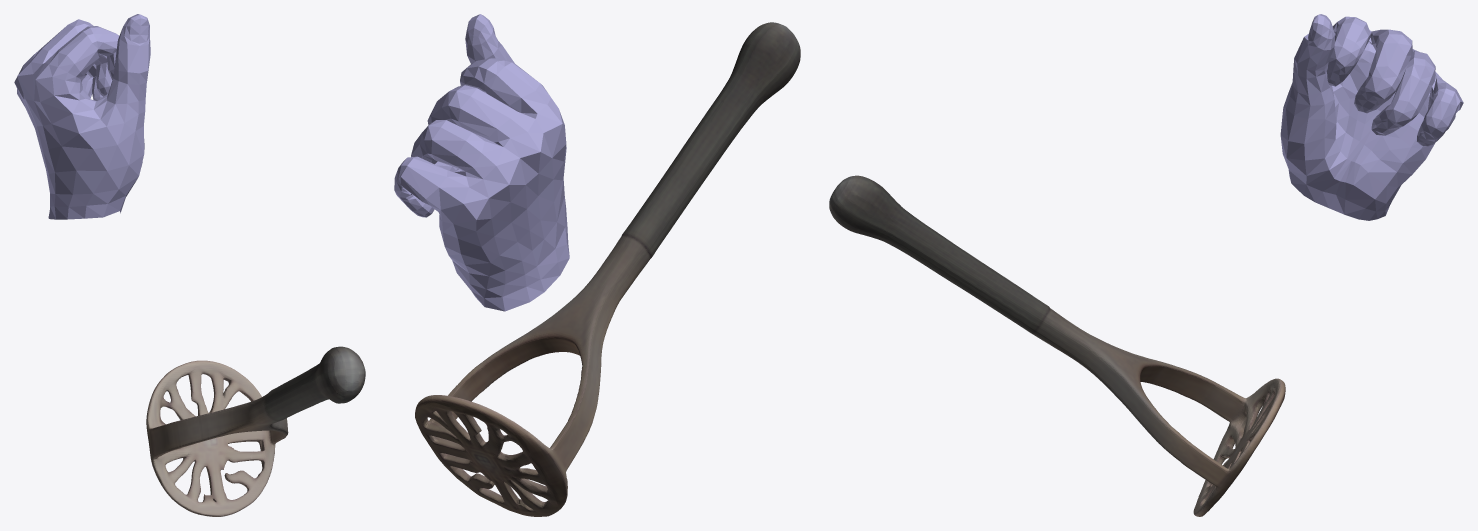
Rendered from frame_0085_source_000085_hand_object.glb.
3 views of the same model, side by side, from view 1: azimuth 30°, elevation 25°; view 2: azimuth 150°, elevation 25°; view 3: azimuth 270°, elevation 25° (orthographic). The views are drawn at different scales.
Visible parts, largest first — view 1: world; view 2: world; view 3: world.
Part boxes in pixels (x1=…): world: x1=14, y1=14, x2=365, y2=516; world: x1=394, y1=14, x2=800, y2=516; world: x1=829, y1=14, x2=1463, y2=516.
Size of the model in its own units: 0.1089 by 0.275 by 0.3281.
